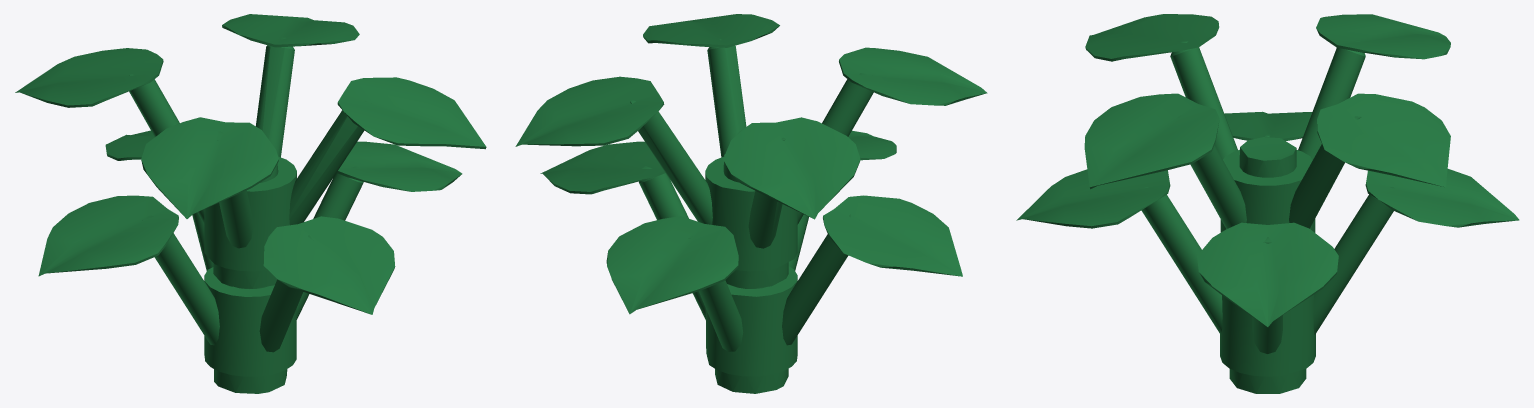
The model's file is frog_leafy_b.glb.
The picture shows the model from 3 angles, left to right: view 1: azimuth 30°, elevation 25°; view 2: azimuth 150°, elevation 25°; view 3: azimuth 270°, elevation 25°; orthographic projection. The views are drawn at different scales.
Parts seen in each view (by area): view 1: frog_leafy_b; view 2: frog_leafy_b; view 3: frog_leafy_b.
Boxes of the visible parts, x1,y1,x2,y2 form: frog_leafy_b: (15, 14, 486, 393); frog_leafy_b: (515, 14, 987, 393); frog_leafy_b: (1016, 14, 1519, 393).
Bounding box in the file's own units: 1.49 × 0.9992 × 1.48.
